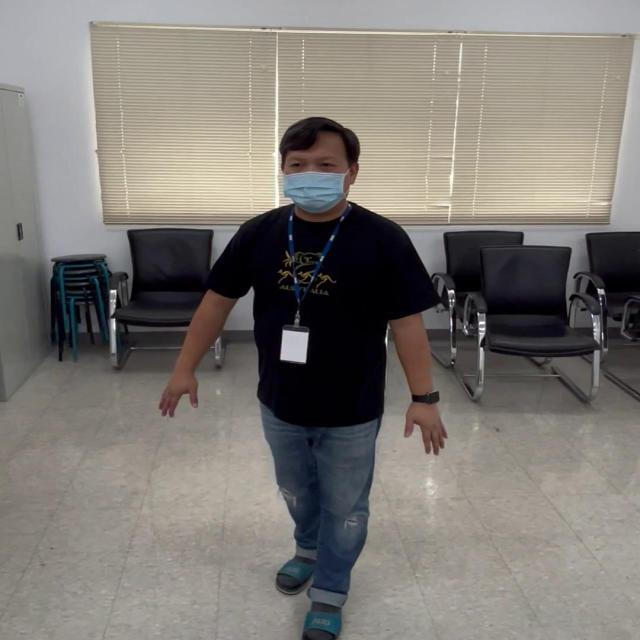bare_hand: (401, 392, 449, 459), (154, 366, 201, 421)
